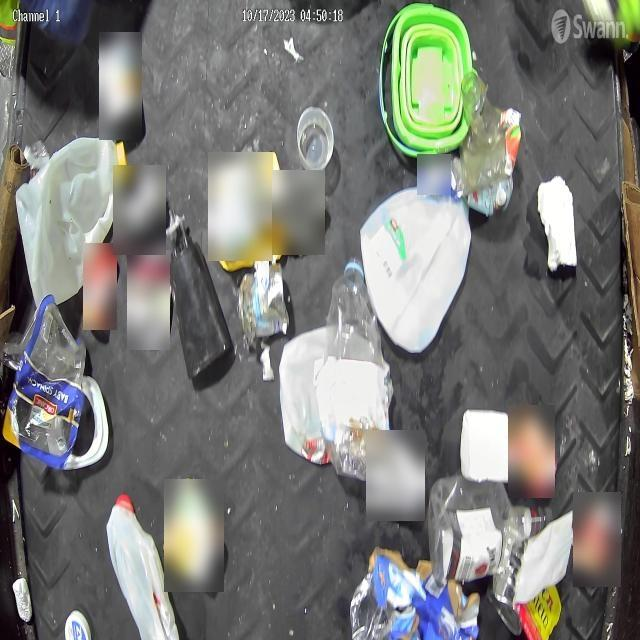milk_jug: (360, 182, 473, 352), (18, 135, 128, 305), (277, 322, 383, 466), (108, 492, 184, 640)
